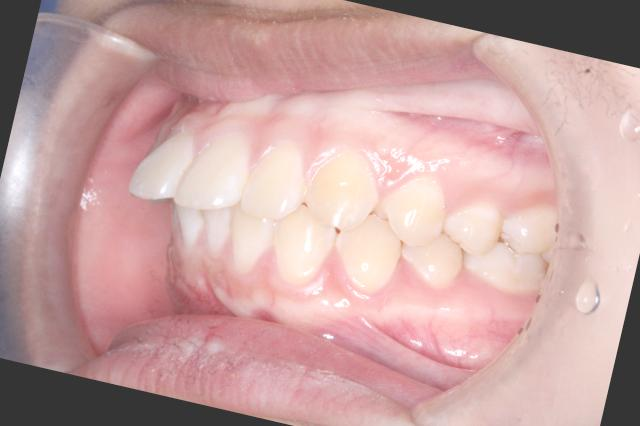canine class I: (262, 133, 426, 312)
molar class III 1/4: (454, 182, 565, 310)
